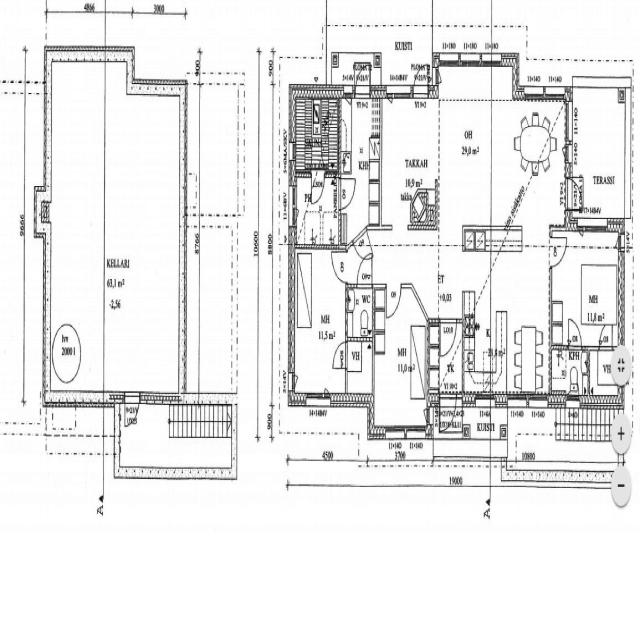door: (439, 317, 459, 359), (355, 252, 374, 287), (330, 248, 348, 284), (550, 232, 568, 268), (339, 176, 356, 212), (566, 315, 583, 349), (124, 392, 140, 428), (386, 282, 401, 320), (412, 64, 428, 96), (355, 64, 369, 98), (332, 341, 346, 371)
window: (304, 391, 330, 409), (523, 86, 546, 103), (458, 54, 482, 70), (390, 86, 412, 102), (384, 425, 406, 441), (528, 393, 548, 408)
zone: (49, 58, 182, 394), (439, 68, 567, 228), (374, 227, 439, 433), (492, 249, 550, 396), (292, 246, 346, 400), (571, 84, 627, 224), (380, 97, 439, 229), (554, 234, 622, 347), (514, 100, 564, 226), (292, 170, 340, 247), (340, 98, 380, 179), (462, 323, 492, 394), (292, 130, 338, 172), (588, 349, 623, 402), (551, 346, 588, 395), (346, 338, 373, 401), (346, 285, 374, 339)
